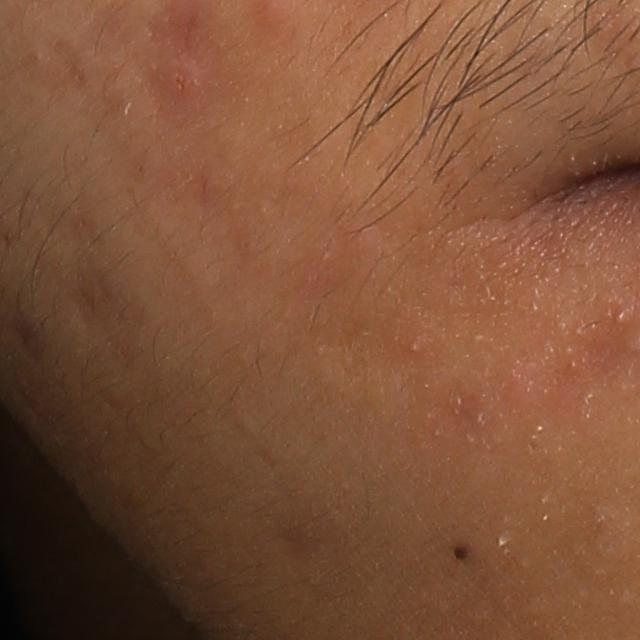comedo: (609, 307, 626, 332)
nevus: (442, 537, 471, 564)
papule: (152, 54, 209, 110)
